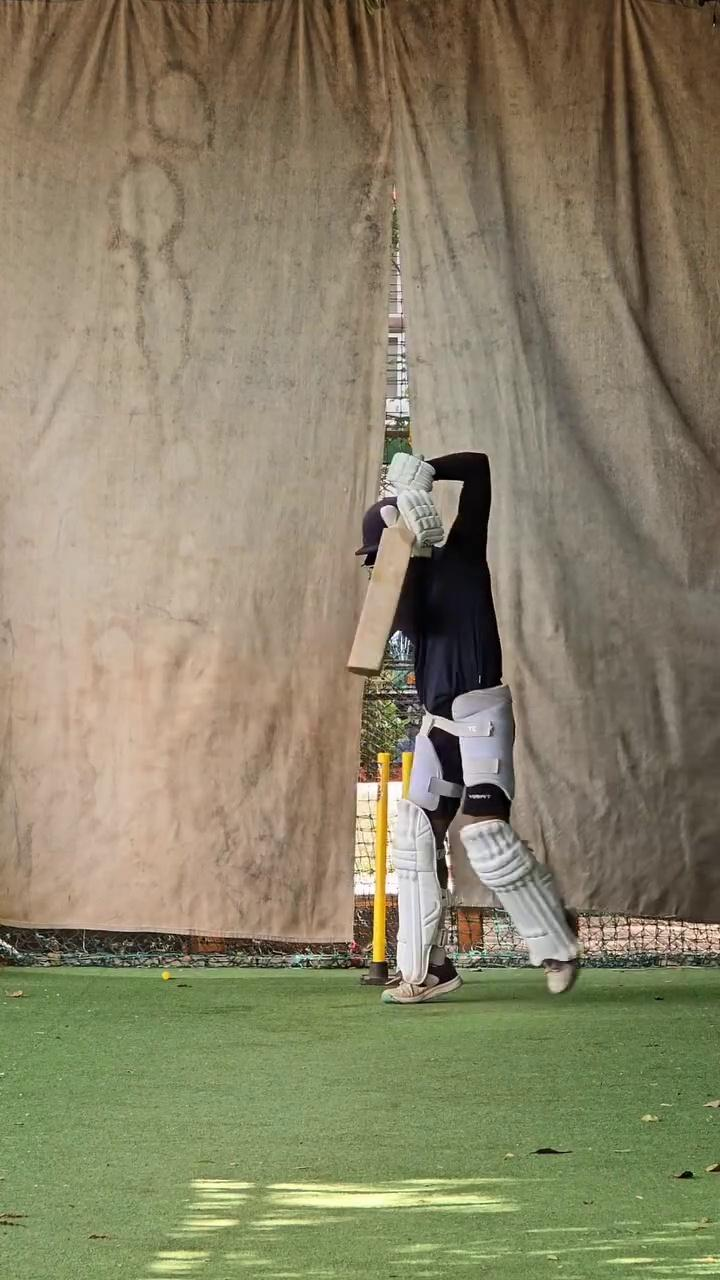bat: (343, 523, 417, 684)
